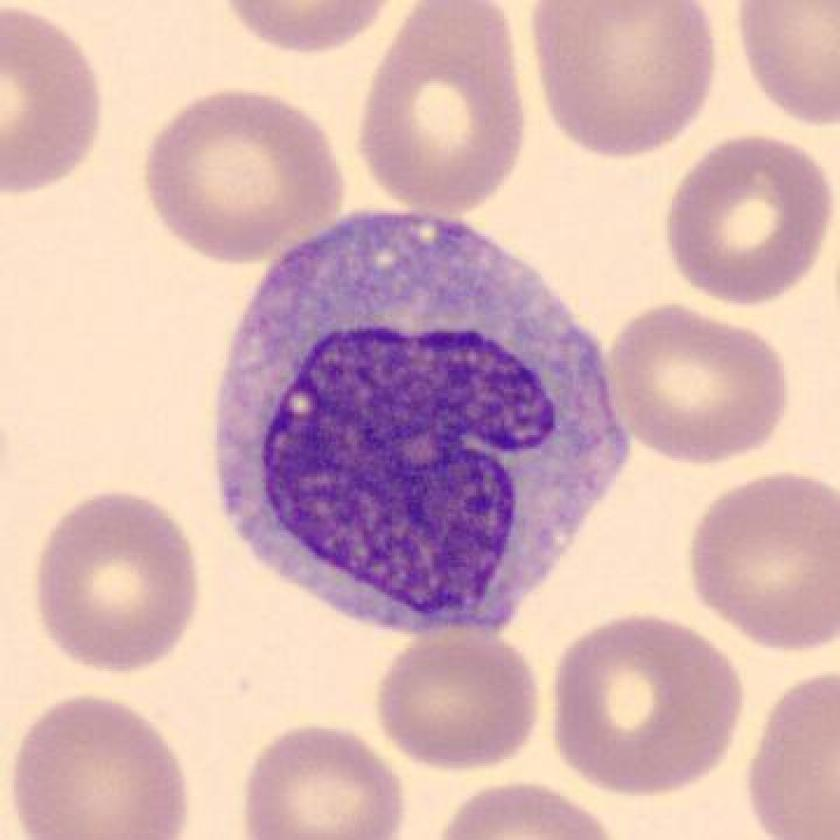monocyte: (185, 195, 645, 649)
